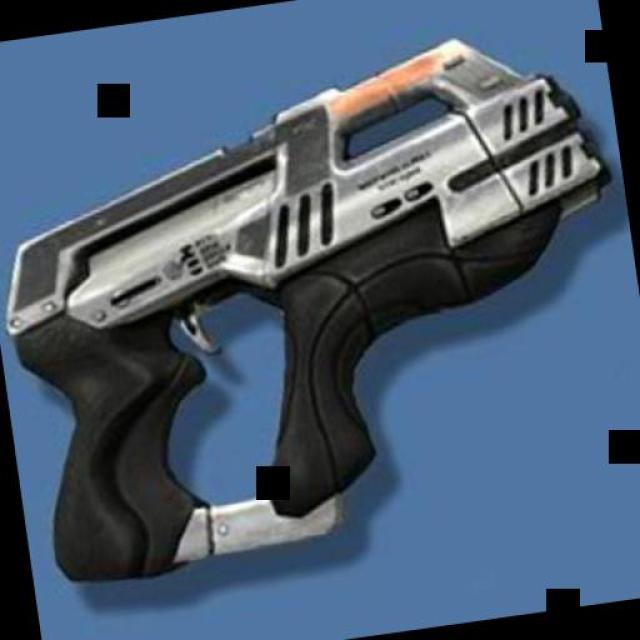gun: (5, 22, 634, 594)
